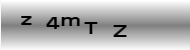4: (45, 16, 59, 30)
T: (83, 21, 98, 34)
Z: (111, 24, 127, 37)
m: (60, 15, 79, 27)
z: (18, 15, 34, 27)
